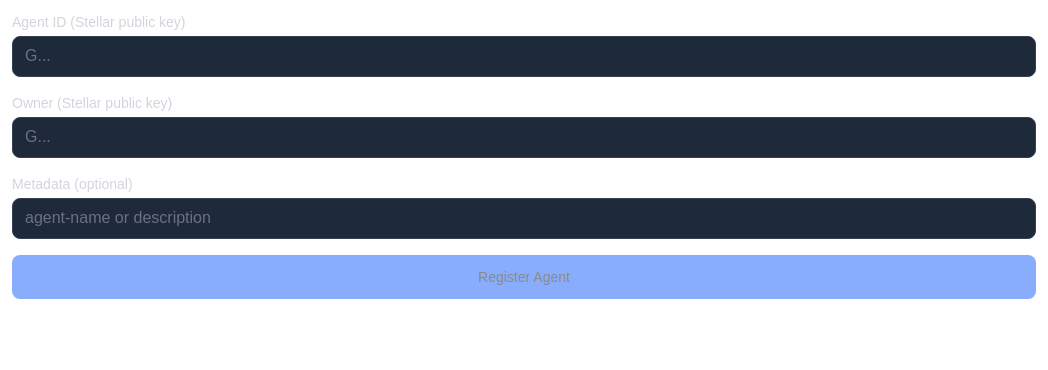
Scenario: AgentRegistrationForm › shows error state on failure
Type "GABCDEFG" into the field with placeholder "G..." below "Agent ID (Stellar public key)" at [524, 56], box [12,36,1036,77]
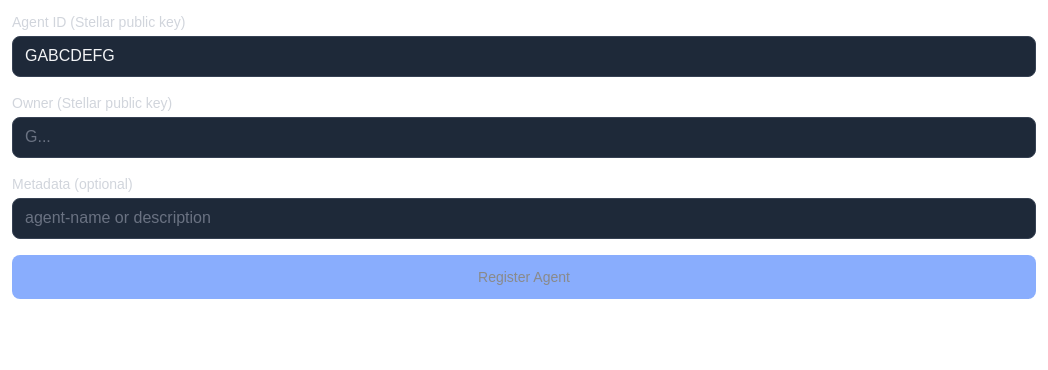
Type "G1234567" into the field with placeholder "G..." at [524, 137], box [12,117,1036,158]
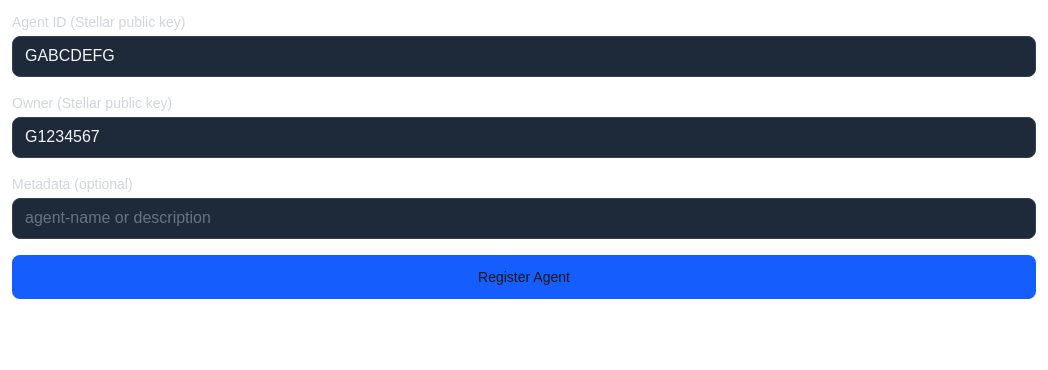
Click the button "Register Agent" at [524, 276], box [12,254,1036,298]
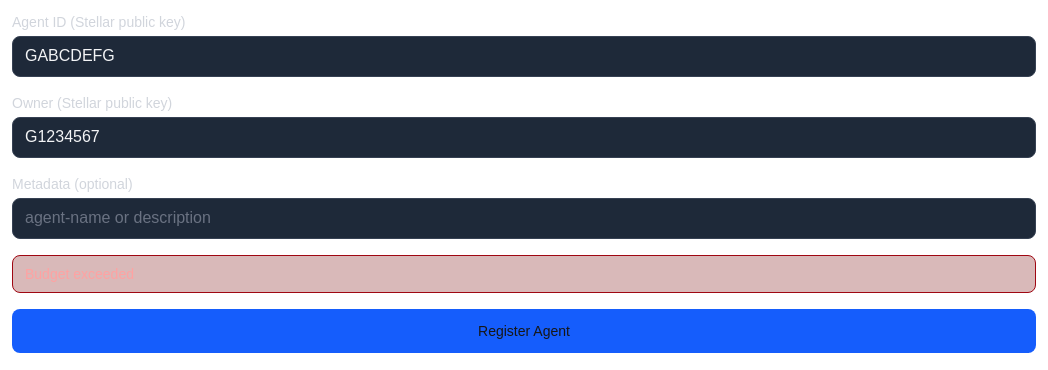
Expected: the text "Budget exceeded" is shown, [12,254,1036,292]
